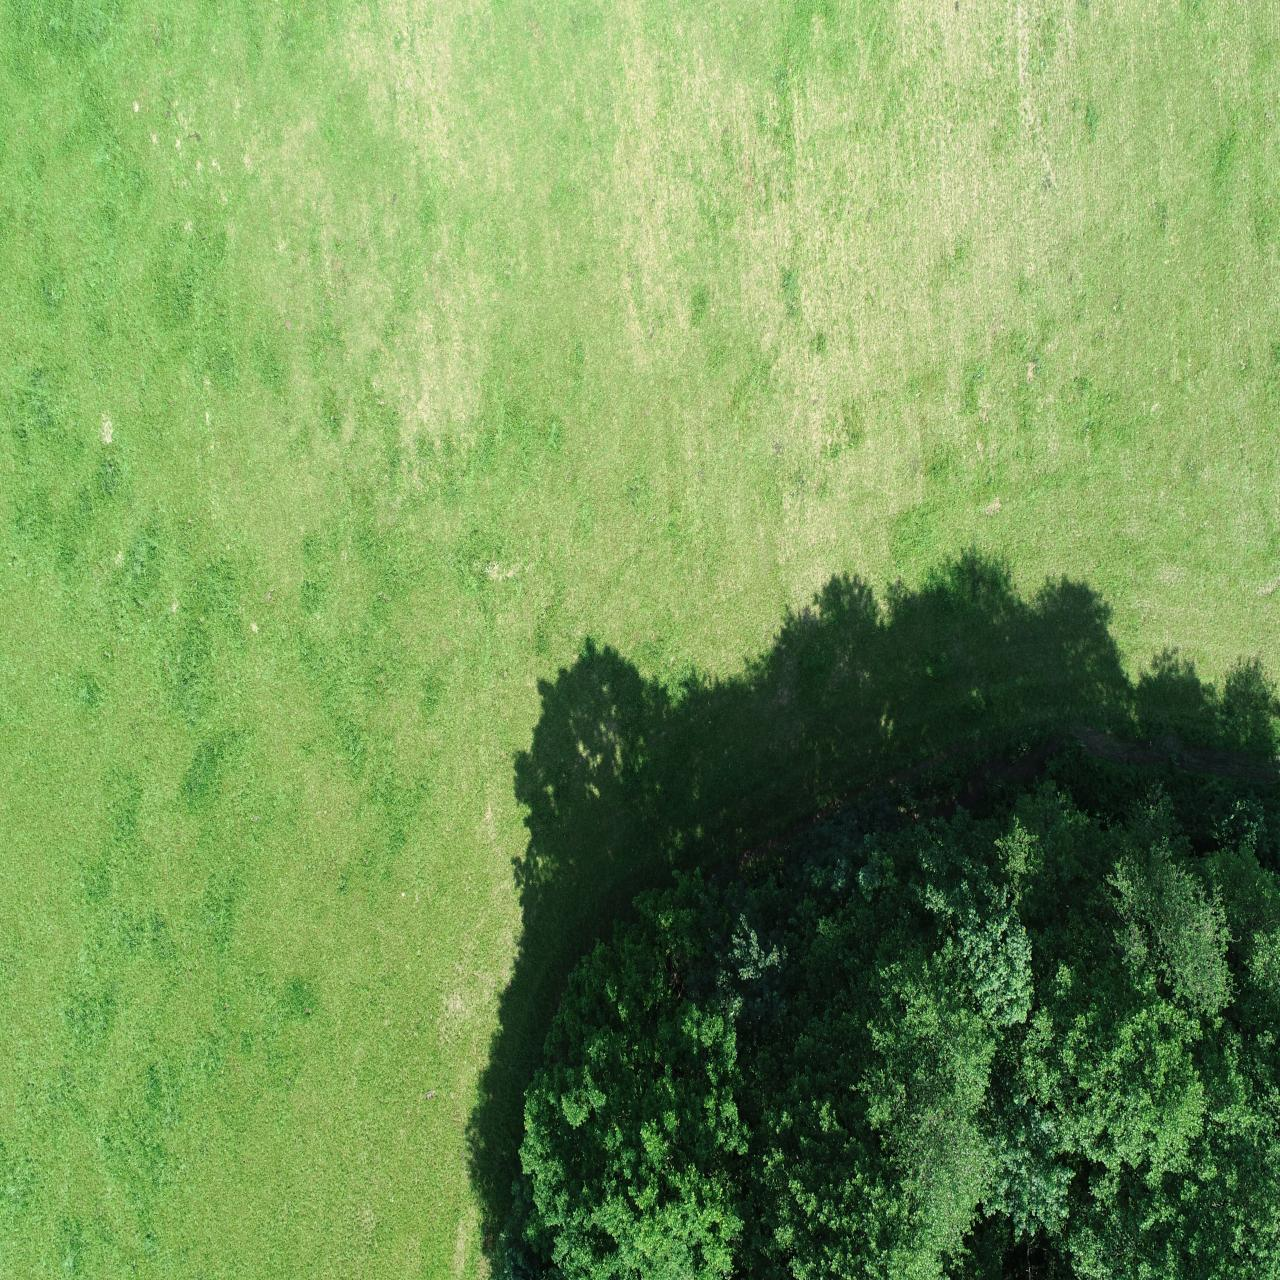cow: (237, 268, 279, 311), (972, 199, 1008, 239), (284, 386, 305, 442)
